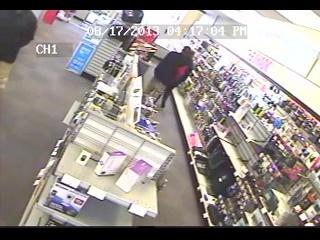Normal: (144, 46, 196, 112), (0, 10, 38, 64)
